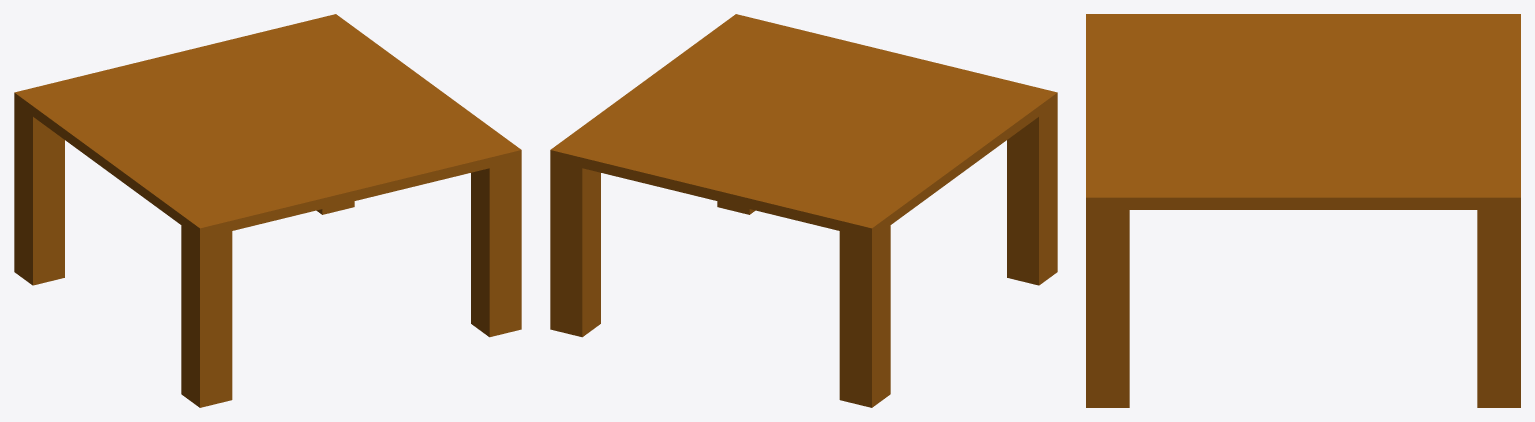
File: Table.fbx
The picture shows the model from 3 angles, left to right: view 1: azimuth 30°, elevation 25°; view 2: azimuth 150°, elevation 25°; view 3: azimuth 270°, elevation 25°; orthographic projection. The views are drawn at different scales.
Parts seen in each view (by area): view 1: Table; view 2: Table; view 3: Table.
Part boxes in pixels (<box>): Table: <box>14,14,521,407</box>; Table: <box>550,14,1057,407</box>; Table: <box>1086,14,1520,407</box>.
Bounding box in the file's own units: 150 × 80 × 150.
